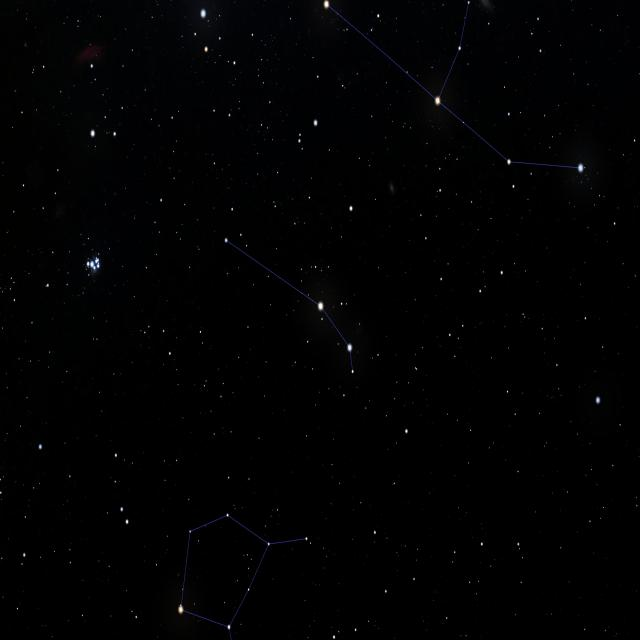Aries: (221, 231, 361, 383)
